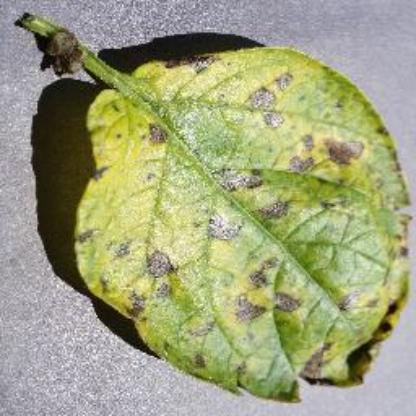Early-Blight: (11, 9, 408, 404)
